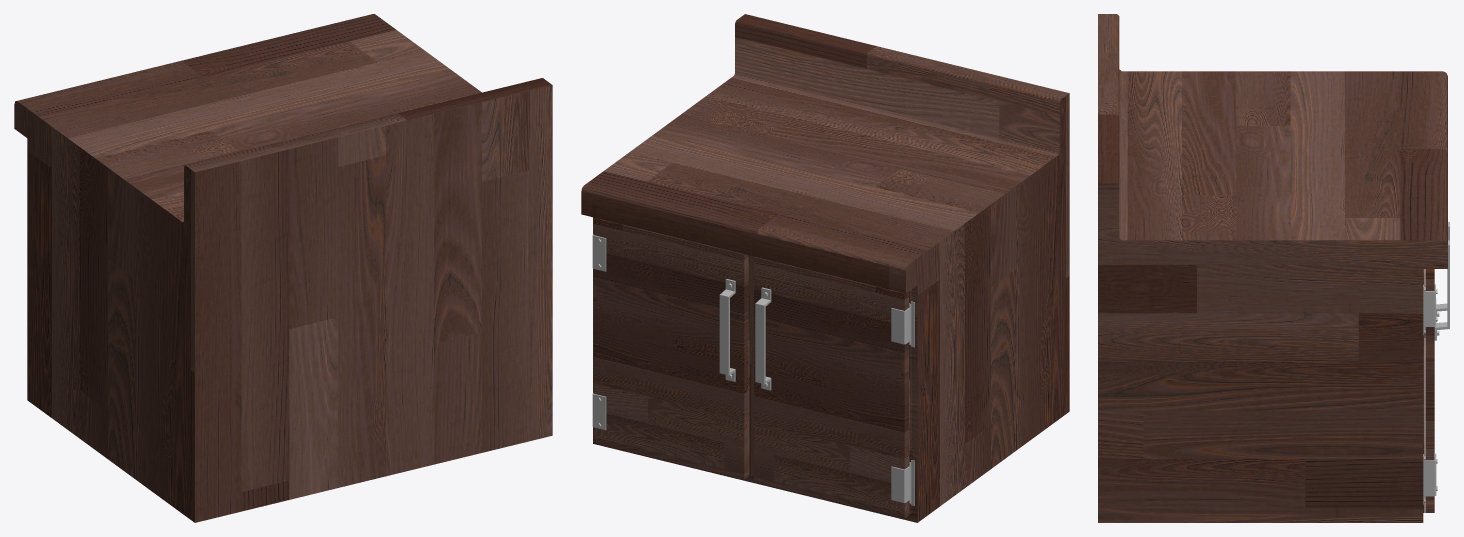
File: SimpleCabinet.fbx
3 renders of one model, left to right at view 1: azimuth 30°, elevation 25°; view 2: azimuth 150°, elevation 25°; view 3: azimuth 270°, elevation 25°, orthographic. The views are drawn at different scales.
Visible parts, largest first — view 1: CabinetFrame; view 2: CabinetFrame, CabinetDoorL, CabinetDoorR; view 3: CabinetFrame, CabinetDoorL.
Part boxes in pixels (bbox=[...]): CabinetFrame: bbox=[14, 14, 552, 522]; CabinetFrame: bbox=[581, 14, 1069, 522]; CabinetDoorL: bbox=[592, 217, 748, 479]; CabinetDoorR: bbox=[754, 256, 909, 518]; CabinetFrame: bbox=[1098, 14, 1447, 522]; CabinetDoorL: bbox=[1425, 240, 1449, 512].
Size of the model in its own units: 150 by 141 by 132.
